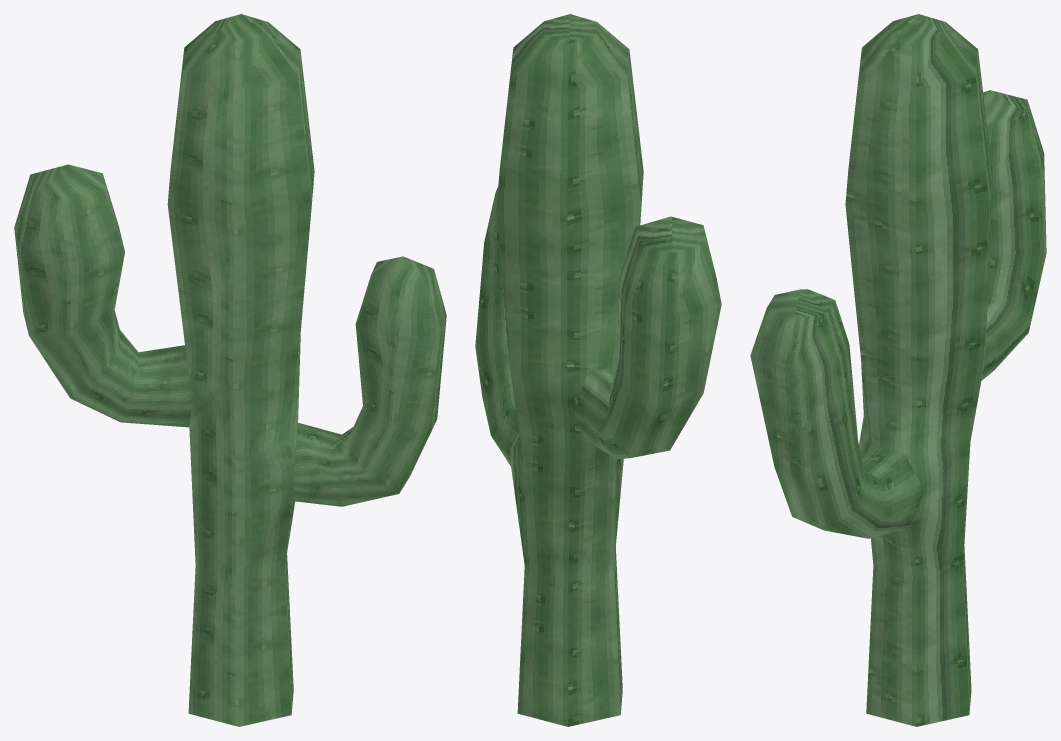
The picture shows the model from 3 angles, left to right: view 1: azimuth 30°, elevation 25°; view 2: azimuth 150°, elevation 25°; view 3: azimuth 270°, elevation 25°; orthographic projection.
Parts seen in each view (by area): view 1: cactus; view 2: cactus; view 3: cactus.
Boxes of the visible parts, x1,y1,x2,y2 form: cactus: (14,14,446,726); cactus: (475,14,721,726); cactus: (750,14,1046,726).
Bounding box in the file's own units: 151 × 304 × 119.
1 material, 1 textured.
